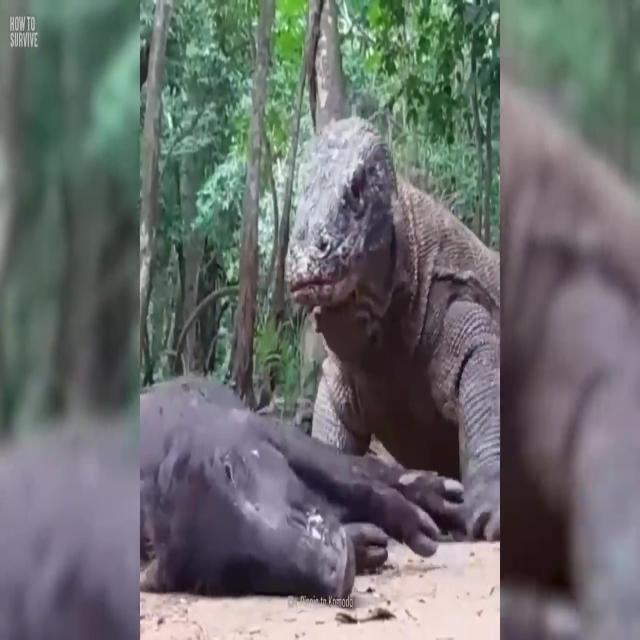pig: (128, 336, 426, 628)
